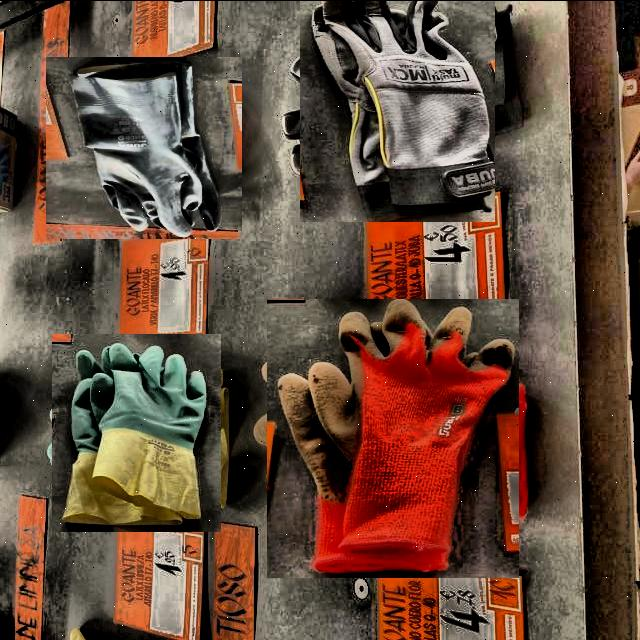gloved: (260, 305, 526, 571), (286, 0, 508, 209), (49, 52, 239, 242), (45, 340, 228, 524)
